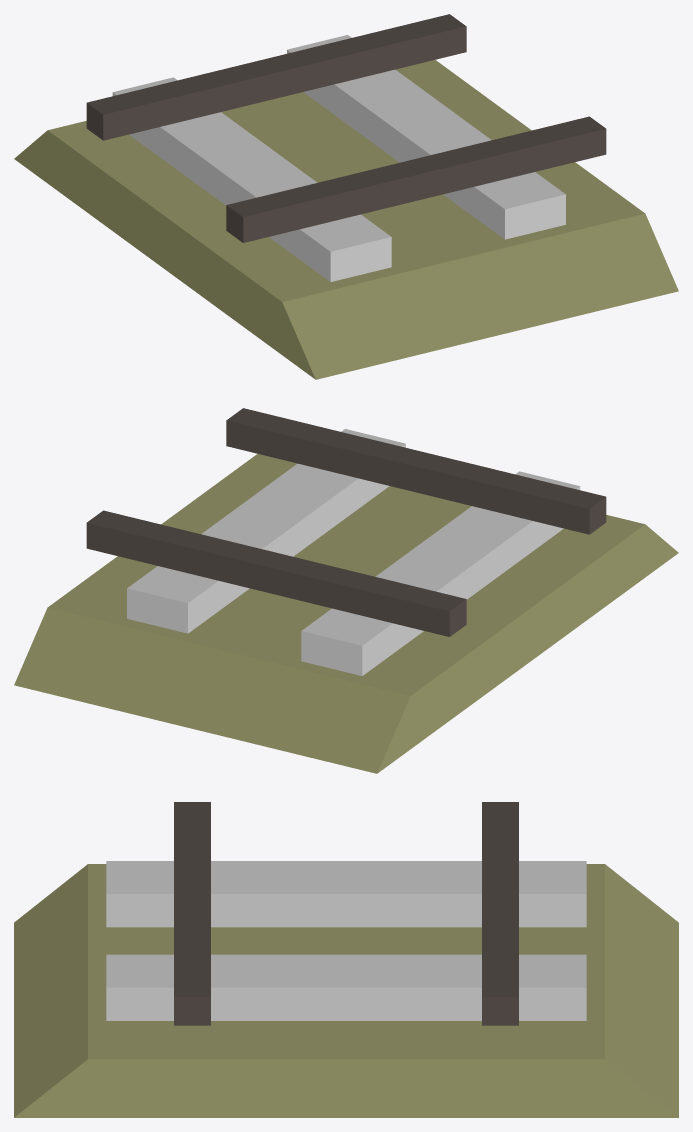
The model's file is SM_Via_Recta2_v0_Hormigon_LOD1.fbx.
3 views of the same model, one above another, from view 1: azimuth 30°, elevation 25°; view 2: azimuth 150°, elevation 25°; view 3: azimuth 270°, elevation 25° (orthographic). The views are drawn at different scales.
Parts seen in each view (by area): view 1: SM_via_trazado_v5_LOD1; view 2: SM_via_trazado_v5_LOD1; view 3: SM_via_trazado_v5_LOD1.
Part boxes in pixels (box(x1,y1,x2,y2)): SM_via_trazado_v5_LOD1: box(14, 14, 678, 379); SM_via_trazado_v5_LOD1: box(14, 408, 678, 773); SM_via_trazado_v5_LOD1: box(14, 802, 678, 1117).
Size of the model in its own units: 2.5 by 0.72 by 3.6.
